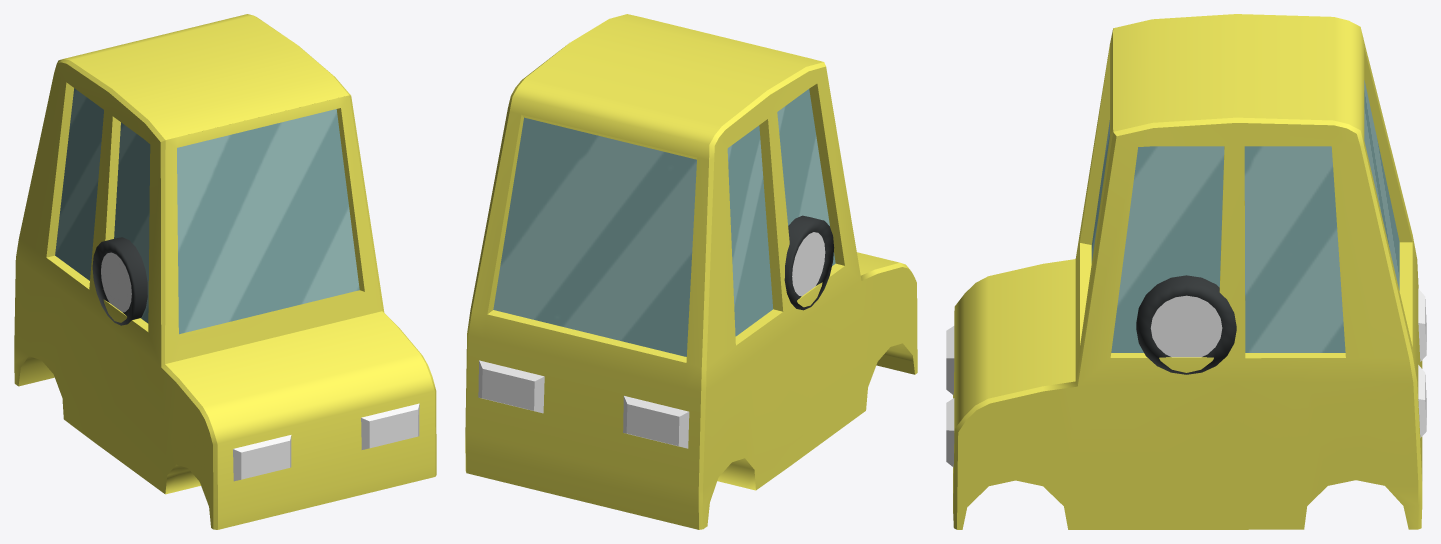
The model's file is car_2_Y.fbx.
The picture shows the model from 3 angles, left to right: view 1: azimuth 30°, elevation 25°; view 2: azimuth 150°, elevation 25°; view 3: azimuth 270°, elevation 25°; orthographic projection. The views are drawn at different scales.
Parts seen in each view (by area): view 1: car_2_chasis_Y, car_2_right_wheel_Y, car_2_back_wheel_Y; view 2: car_2_chasis_Y, car_2_right_wheel_Y, car_2_back_wheel_Y; view 3: car_2_chasis_Y, car_2_left_wheel_Y, car_2_back_wheel_Y.
Part boxes in pixels (<box>): car_2_chasis_Y: <box>14,14,436,529</box>; car_2_right_wheel_Y: <box>92,241,147,324</box>; car_2_back_wheel_Y: <box>92,237,147,325</box>; car_2_chasis_Y: <box>465,14,917,529</box>; car_2_right_wheel_Y: <box>785,219,834,308</box>; car_2_back_wheel_Y: <box>784,215,833,310</box>; car_2_chasis_Y: <box>946,14,1426,529</box>; car_2_left_wheel_Y: <box>1136,283,1236,372</box>; car_2_back_wheel_Y: <box>1136,275,1236,374</box>.
Size of the model in its own units: 80.78 by 120 by 130.
